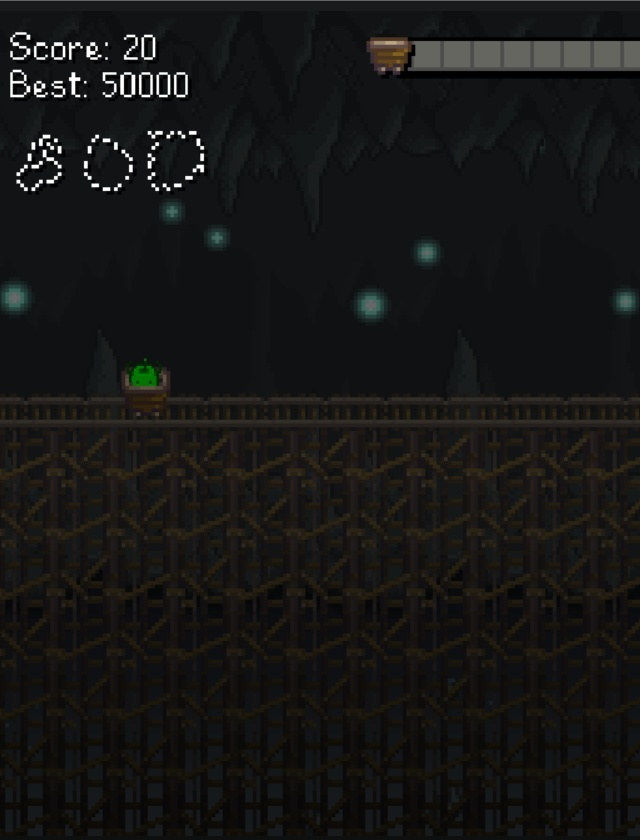minecart: (122, 358, 168, 416)
tracks: (181, 381, 640, 443)
